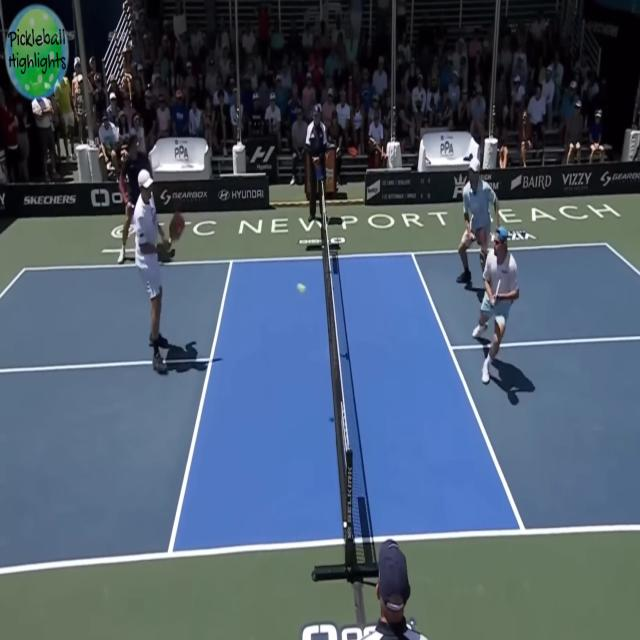ball: (296, 280, 306, 298)
